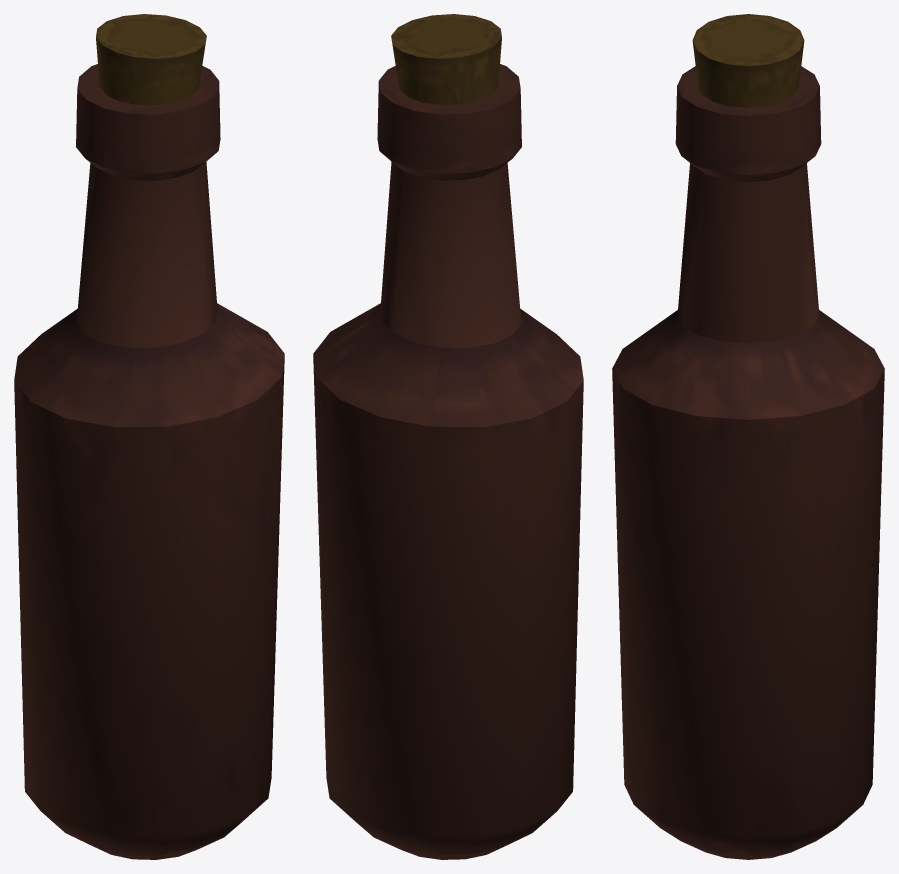
The model's file is Bottle_1.glb.
3 views of the same model, side by side, from view 1: azimuth 30°, elevation 25°; view 2: azimuth 150°, elevation 25°; view 3: azimuth 270°, elevation 25° (orthographic).
Visible parts, largest first — view 1: Bottle_1; view 2: Bottle_1; view 3: Bottle_1.
Part boxes in pixels (x1,y1,x2,y2): Bottle_1: (14, 14, 284, 859); Bottle_1: (313, 14, 583, 859); Bottle_1: (612, 14, 884, 859).
Bounding box in the file's own units: 0.1127 × 0.3647 × 0.1129.
Materials: 1 (1 with a texture image).
